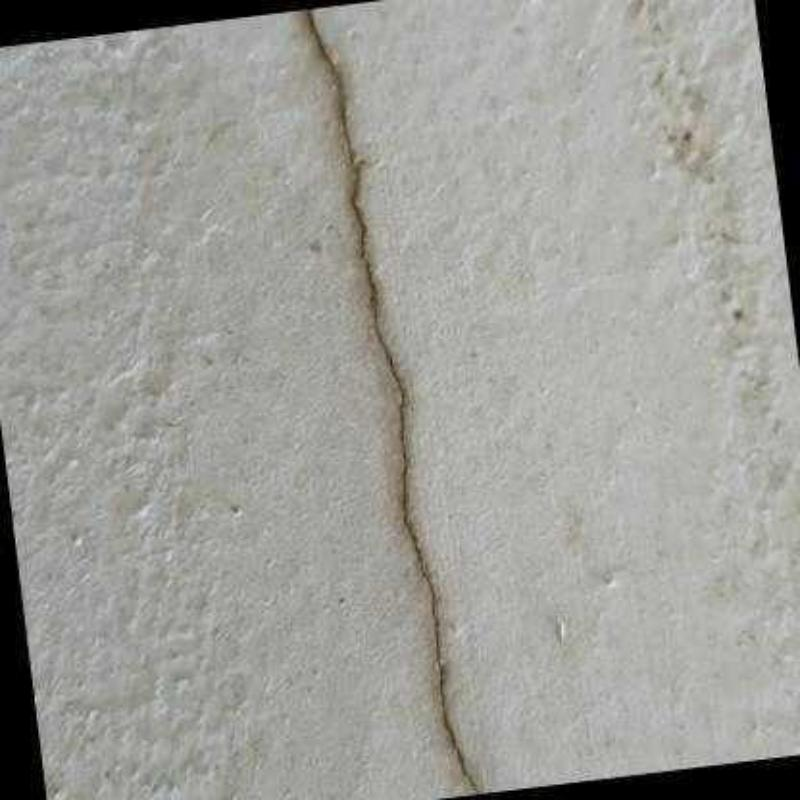crack: (306, 8, 480, 793)
